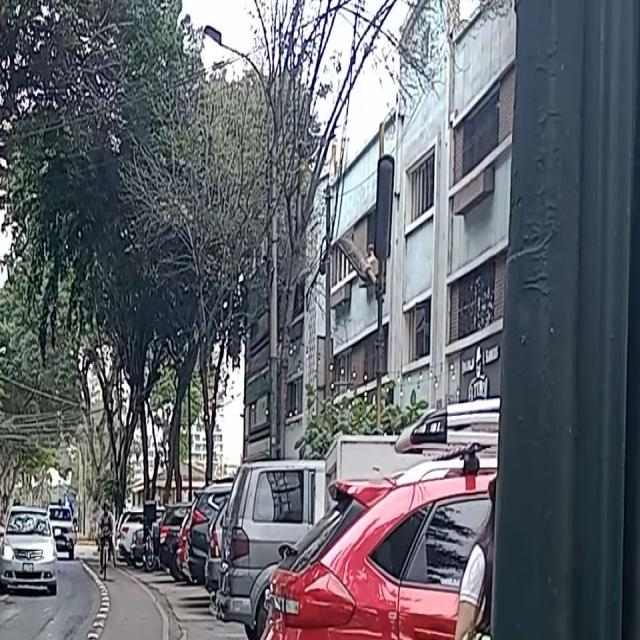bicycle: (94, 496, 118, 580)
car: (0, 504, 59, 596), (45, 499, 77, 559)
